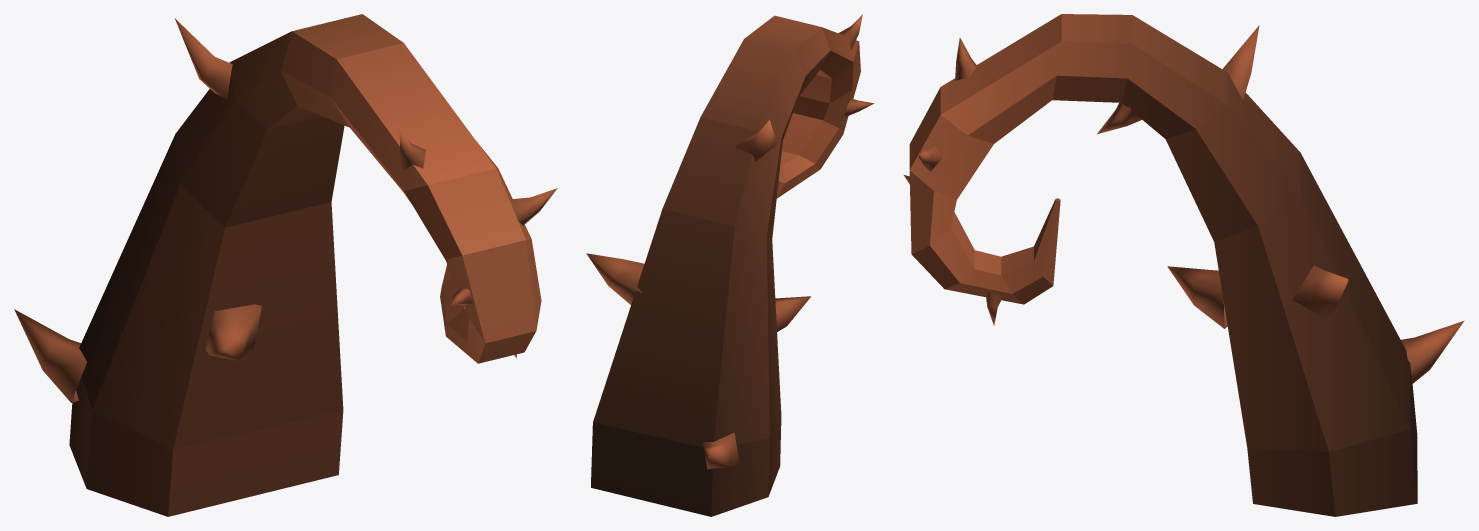
Rendered from Thorn_A_1.fbx.
3 renders of one model, left to right at view 1: azimuth 30°, elevation 25°; view 2: azimuth 150°, elevation 25°; view 3: azimuth 270°, elevation 25°, orthographic. The views are drawn at different scales.
Visible parts, largest first — view 1: Thorn_A_1; view 2: Thorn_A_1; view 3: Thorn_A_1.
Boxes of the visible parts, box(x1,y1,x2,y2) form: Thorn_A_1: box(14, 14, 557, 516); Thorn_A_1: box(586, 14, 874, 516); Thorn_A_1: box(903, 14, 1464, 516).
Bounding box in the file's own units: 15.32 × 30.78 × 35.41.
